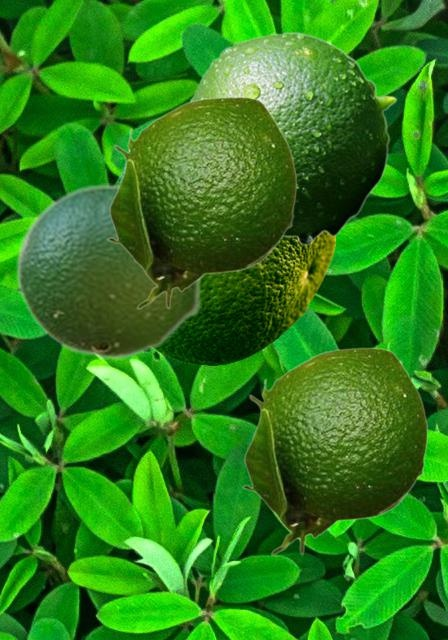dalandan: (113, 162, 334, 364), (188, 31, 396, 245), (106, 96, 296, 309), (241, 347, 427, 555), (15, 183, 201, 360)
